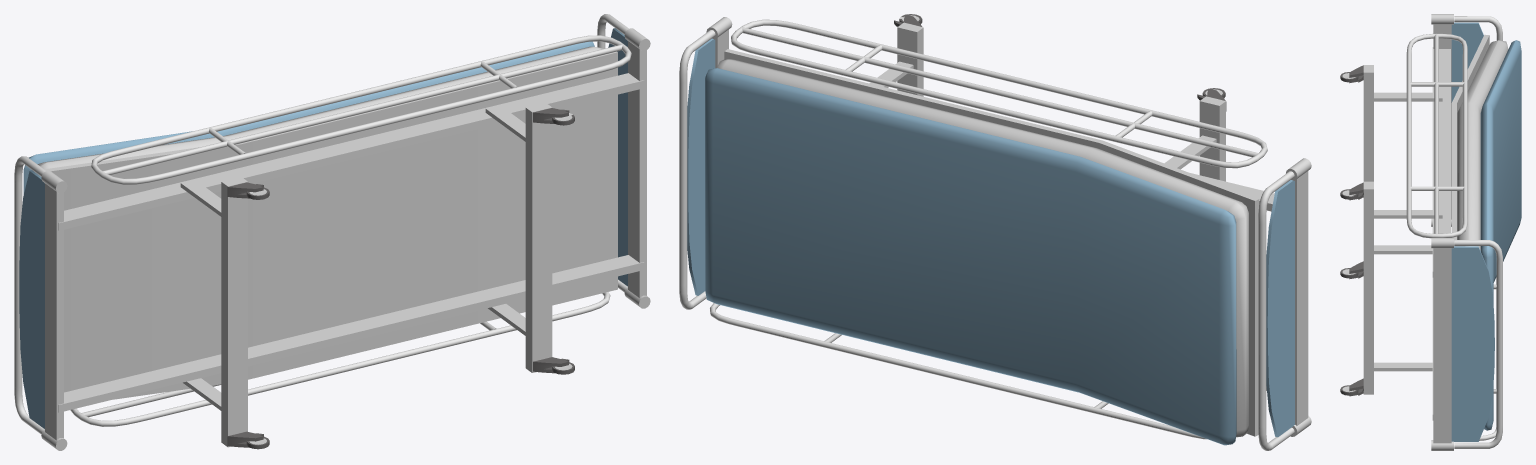
3 renders of one model, left to right at view 1: azimuth 30°, elevation 25°; view 2: azimuth 150°, elevation 25°; view 3: azimuth 270°, elevation 25°, orthographic. The views are drawn at different scales.
Parts seen in each view (by area): view 1: Cube.010; view 2: Cube.010; view 3: Cube.010.
Boxes of the visible parts, x1,y1,x2,y2 form: Cube.010: (14, 14, 650, 450); Cube.010: (679, 14, 1311, 450); Cube.010: (1340, 14, 1521, 450).
Size of the model in its own units: 214 by 92.94 by 71.92.
